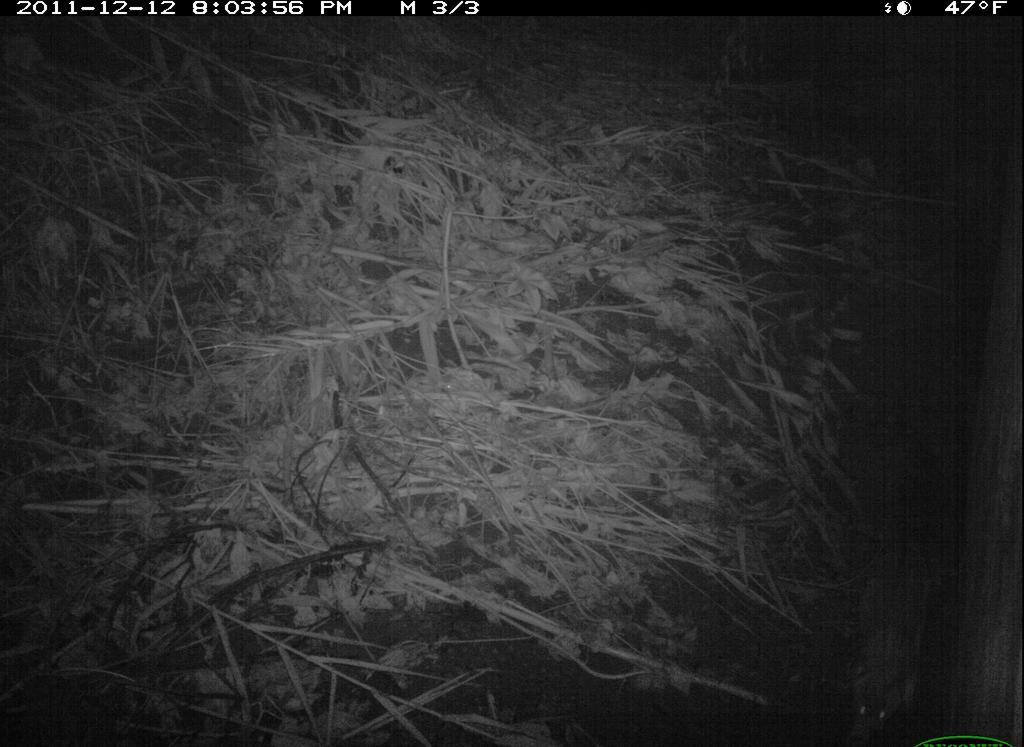bobcat: (826, 505, 954, 747)
